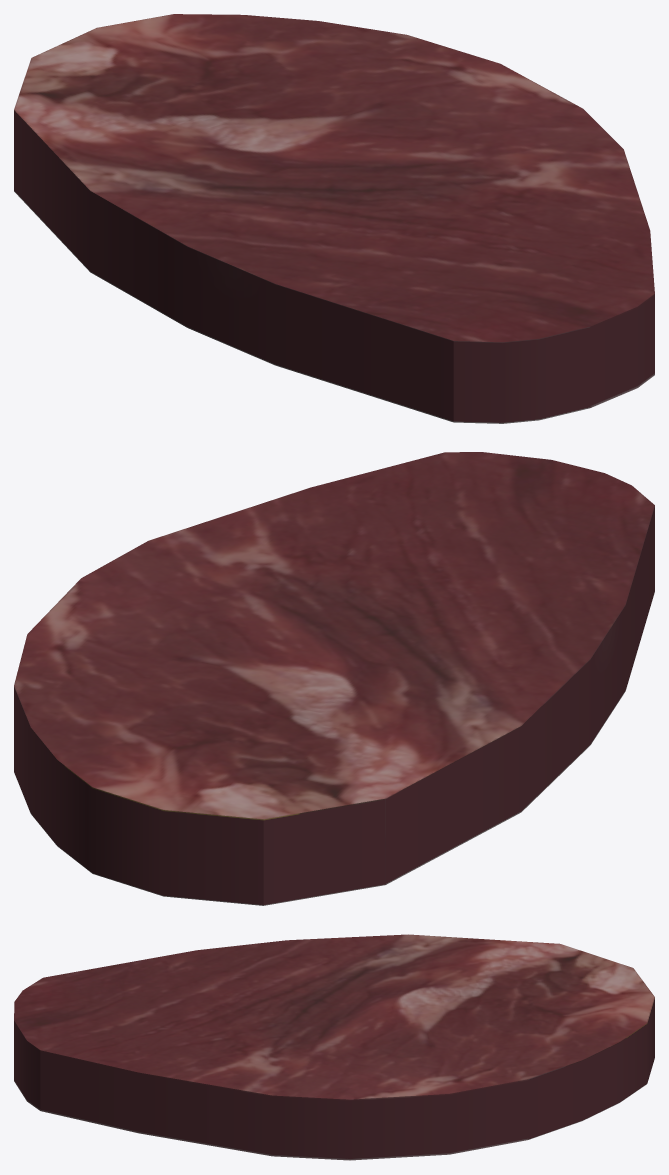
File: steak_cooked.fbx
The picture shows the model from 3 angles, top to bottom: view 1: azimuth 30°, elevation 25°; view 2: azimuth 150°, elevation 25°; view 3: azimuth 270°, elevation 25°; orthographic projection. The views are drawn at different scales.
Visible parts, largest first — view 1: Plane.007; view 2: Plane.007; view 3: Plane.007.
Part boxes in pixels (<box>): Plane.007: <box>14,14,654,423</box>; Plane.007: <box>14,452,654,905</box>; Plane.007: <box>14,934,654,1160</box>.
Bounding box in the file's own units: 29.61 × 5.08 × 48.55.
